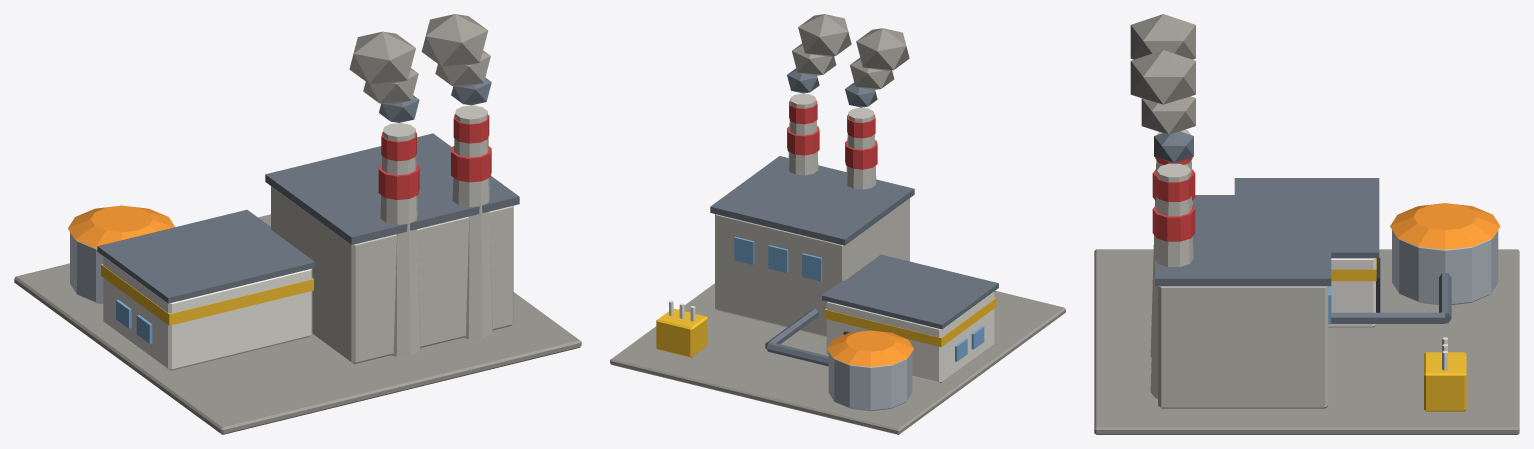
Rendered from kit-cidade-termeletrica.glb.
3 views of the same model, side by side, from view 1: azimuth 30°, elevation 25°; view 2: azimuth 150°, elevation 25°; view 3: azimuth 270°, elevation 25° (orthographic). The views are drawn at different scales.
Visible parts, largest first — view 1: corpo; view 2: corpo; view 3: corpo.
Boxes of the visible parts, x1,y1,x2,y2 form: corpo: [14, 14, 581, 434]; corpo: [610, 14, 1065, 434]; corpo: [1094, 14, 1519, 434].
Size of the model in its own units: 4 by 3.52 by 4.
